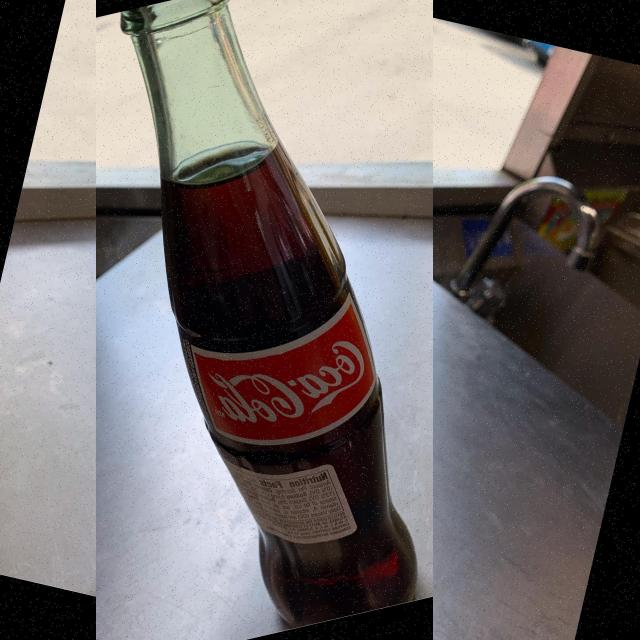coca-cola: (96, 0, 433, 640)
